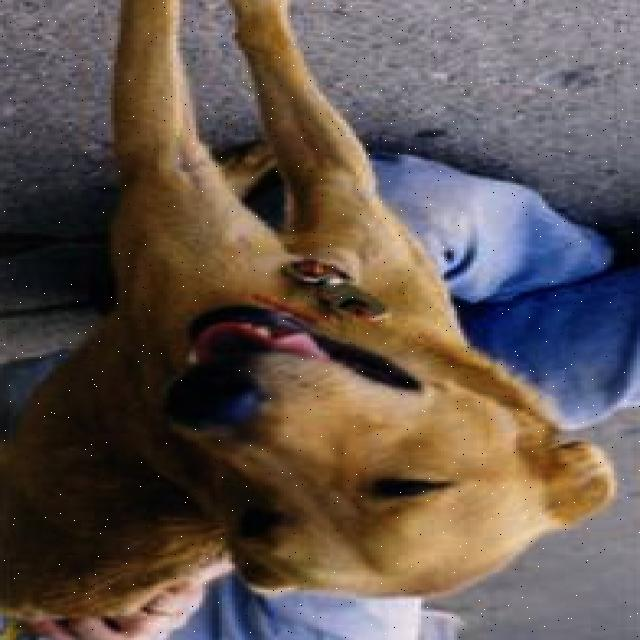Dog: (164, 301, 614, 601)
